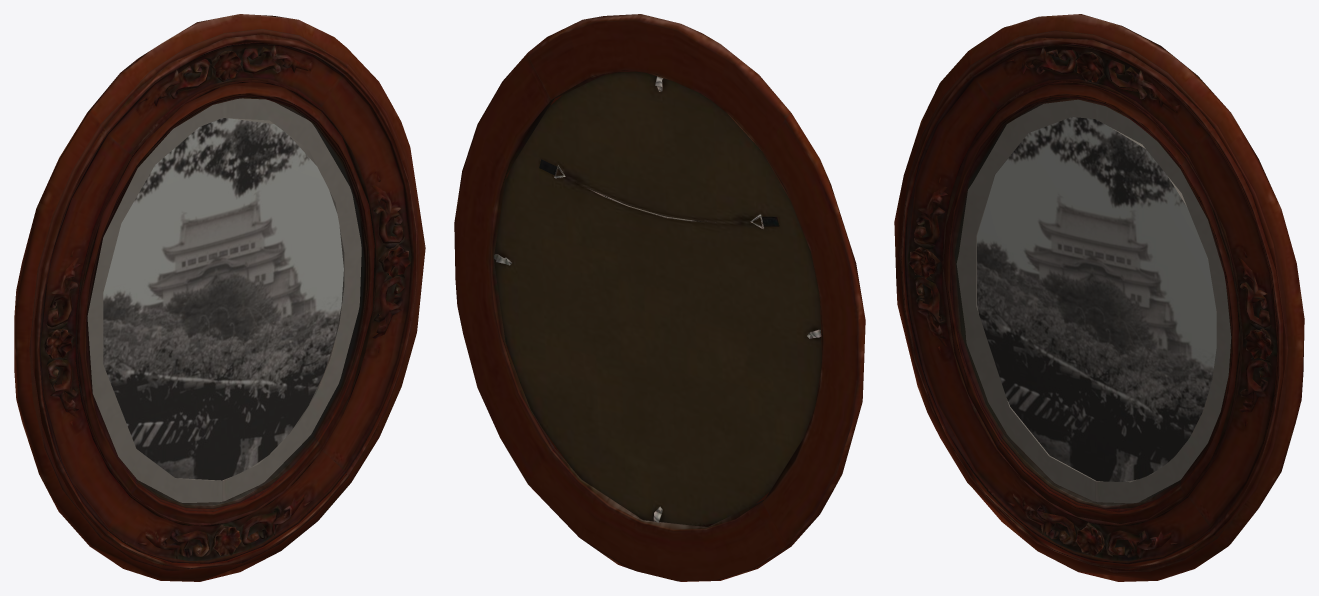
File: hanging_picture_frame_03.glb
3 renders of one model, left to right at view 1: azimuth 30°, elevation 25°; view 2: azimuth 150°, elevation 25°; view 3: azimuth 330°, elevation 25°, orthographic.
Parts seen in each view (by area): view 1: hanging_picture_frame_03, hanging_picture_frame_03_glass, hanging_picture_frame_03_artwork; view 2: hanging_picture_frame_03; view 3: hanging_picture_frame_03, hanging_picture_frame_03_glass, hanging_picture_frame_03_artwork.
Boxes of the visible parts, x1,y1,x2,y2 form: hanging_picture_frame_03: (14, 14, 425, 581); hanging_picture_frame_03_glass: (87, 98, 364, 505); hanging_picture_frame_03_artwork: (103, 118, 343, 480); hanging_picture_frame_03: (454, 14, 865, 581); hanging_picture_frame_03: (894, 14, 1304, 581); hanging_picture_frame_03_glass: (955, 100, 1230, 505); hanging_picture_frame_03_artwork: (977, 117, 1216, 481).
Bounding box in the file's own units: 0.3838 × 0.4996 × 0.0318.
Materials: 3 (2 with a texture image).
